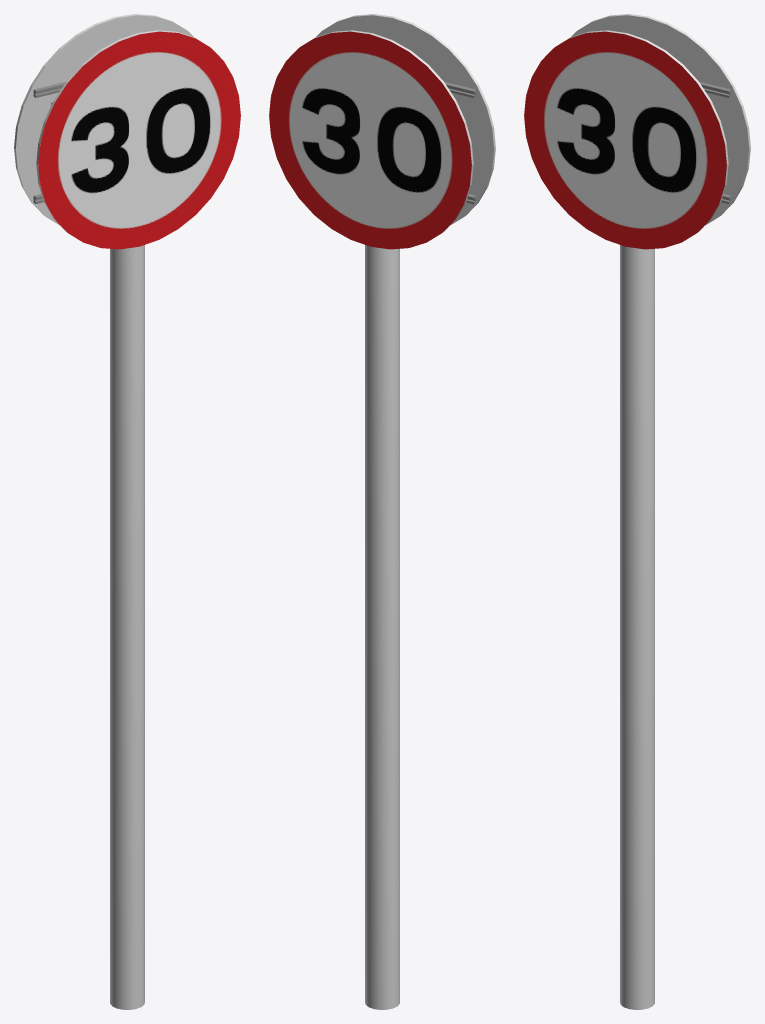
File: SpeedLimitSign30Finished.dae
3 renders of one model, left to right at view 1: azimuth 30°, elevation 25°; view 2: azimuth 150°, elevation 25°; view 3: azimuth 330°, elevation 25°, orthographic.
Visible parts, largest first — view 1: Back30.003, Pole.002, Back30.002; view 2: Back30.002, Pole.002, Back30.003; view 3: Back30.003, Pole.002, Back30.002.
Part boxes in pixels (x1,y1,x2,y2): Back30.003: (36, 30, 240, 249); Pole.002: (110, 245, 144, 1009); Back30.002: (14, 14, 193, 225); Back30.002: (269, 30, 473, 249); Pole.002: (365, 245, 399, 1009); Back30.003: (316, 14, 495, 225); Back30.003: (524, 30, 728, 249); Pole.002: (620, 245, 654, 1009); Back30.002: (571, 14, 750, 225).
Bounding box in the file's own units: 3.2 × 0.656 × 14.72.
